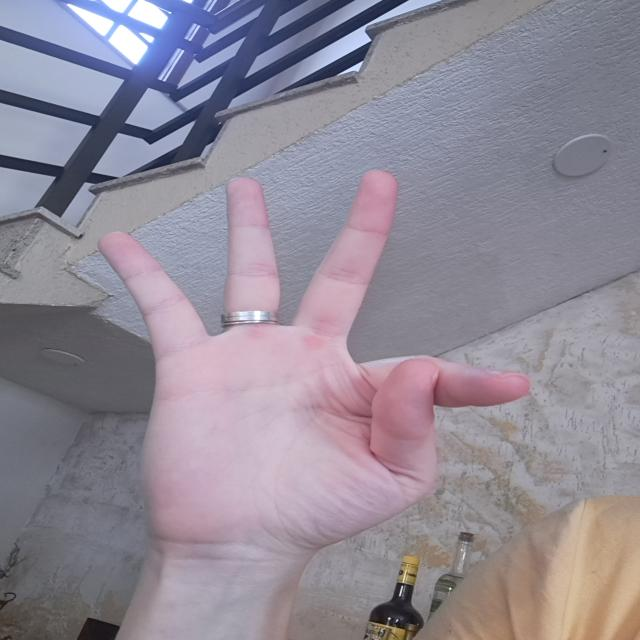T: (78, 159, 544, 553)
